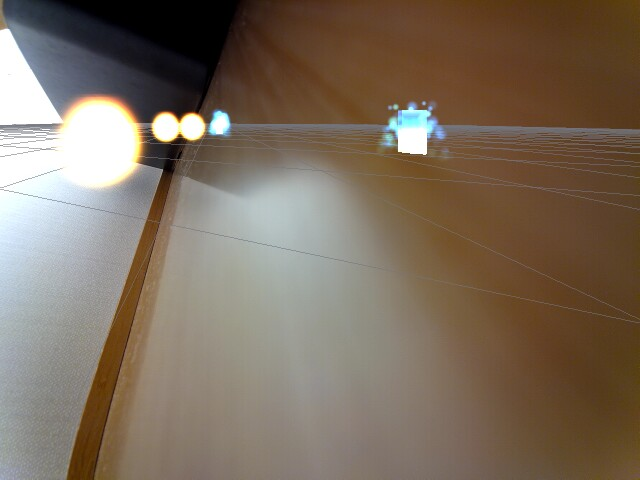firebig: (44, 84, 143, 196)
